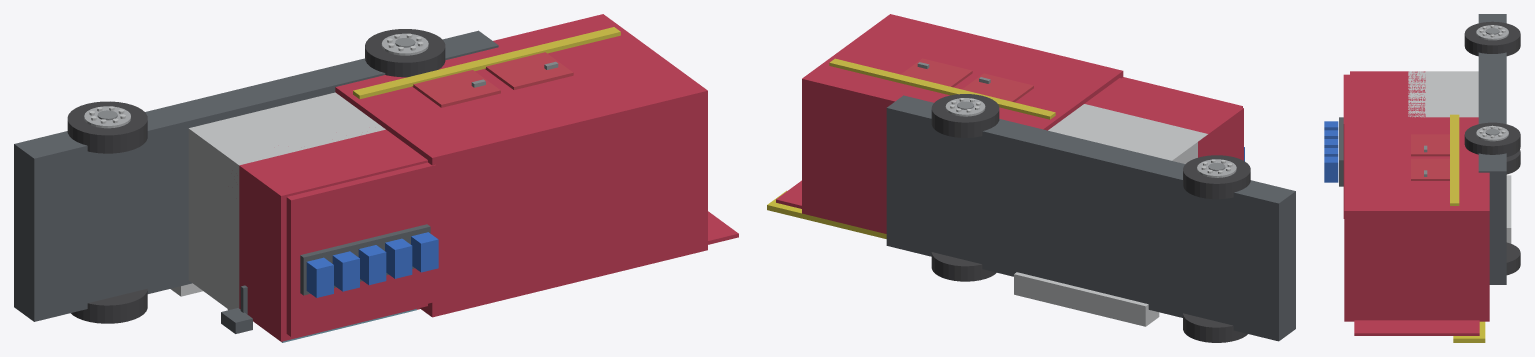
Rendered from VSAV_RenaultMaster_V4.glb.
The picture shows the model from 3 angles, left to right: view 1: azimuth 30°, elevation 25°; view 2: azimuth 150°, elevation 25°; view 3: azimuth 270°, elevation 25°; orthographic projection. The views are drawn at different scales.
Visible parts, largest first — view 1: Medical module red body, Chassis, Roof panel, Cabin white lower, Cabin red upper, Wheel tire -2.05_1, Side yellow reflective stripe 1, Wheel tire 2.05_1, Side compartment door 1_1, Side compartment door 1_0, Wheel tire -2.05_-1, Lightbar base (+9 smaller); view 2: Chassis, Medical module red body, Cabin red upper, Cabin white lower, Cab front white bumper, Wheel tire 2.05_1, Wheel tire -2.05_1, Side yellow reflective stripe 1, Wheel tire 2.05_-1, Wheel tire -2.05_-1, Side compartment door 1_1, Side compartment door 1_0 (+3 smaller); view 3: Medical module red body, Chassis, Cabin white lower, Cabin red upper, Rear door panel 0.85, Wheel tire -2.05_1, Wheel tire 2.05_1, Side yellow reflective stripe 1, Side compartment door 1_0, Side compartment door 1_1, Roof panel, Wheel tire 2.05_-1 (+7 smaller).
Part boxes in pixels (x1=…): Medical module red body: x1=335, y1=14, x2=707, y2=317; Chassis: x1=14, y1=30, x2=498, y2=321; Roof panel: x1=286, y1=162, x2=436, y2=336; Cabin white lower: x1=188, y1=92, x2=385, y2=309; Cabin red upper: x1=239, y1=129, x2=427, y2=341; Wheel tire -2.05_1: x1=67, y1=101, x2=147, y2=153; Side yellow reflective stripe 1: x1=353, y1=27, x2=620, y2=99; Wheel tire 2.05_1: x1=365, y1=29, x2=445, y2=77; Side compartment door 1_1: x1=485, y1=52, x2=573, y2=89; Side compartment door 1_0: x1=412, y1=70, x2=500, y2=107; Wheel tire -2.05_-1: x1=71, y1=288, x2=147, y2=323; Lightbar base: x1=300, y1=224, x2=430, y2=295; Chassis: x1=886, y1=95, x2=1295, y2=341; Medical module red body: x1=802, y1=14, x2=1123, y2=233; Cabin red upper: x1=1084, y1=78, x2=1243, y2=160; Cabin white lower: x1=1048, y1=104, x2=1207, y2=163; Cab front white bumper: x1=1014, y1=272, x2=1159, y2=326; Wheel tire 2.05_1: x1=931, y1=94, x2=999, y2=137; Wheel tire -2.05_1: x1=1183, y1=155, x2=1250, y2=199; Side yellow reflective stripe 1: x1=829, y1=58, x2=1055, y2=119; Wheel tire 2.05_-1: x1=931, y1=252, x2=996, y2=281; Wheel tire -2.05_-1: x1=1183, y1=313, x2=1247, y2=342; Side compartment door 1_1: x1=901, y1=58, x2=972, y2=87; Side compartment door 1_0: x1=962, y1=73, x2=1033, y2=102; Medical module red body: x1=1344, y1=117, x2=1489, y2=321; Chassis: x1=1478, y1=14, x2=1506, y2=284; Cabin white lower: x1=1408, y1=71, x2=1478, y2=117; Cabin red upper: x1=1350, y1=71, x2=1425, y2=117; Rear door panel 0.85: x1=1354, y1=320, x2=1479, y2=335; Wheel tire -2.05_1: x1=1464, y1=21, x2=1520, y2=56; Wheel tire 2.05_1: x1=1464, y1=122, x2=1520, y2=156; Side yellow reflective stripe 1: x1=1450, y1=114, x2=1459, y2=205; Side compartment door 1_0: x1=1411, y1=134, x2=1449, y2=156; Side compartment door 1_1: x1=1411, y1=158, x2=1449, y2=180; Roof panel: x1=1343, y1=74, x2=1349, y2=218; Wheel tire 2.05_-1: x1=1506, y1=242, x2=1520, y2=275.
Size of the model in its own units: 8.56 by 2.61 by 3.37.
